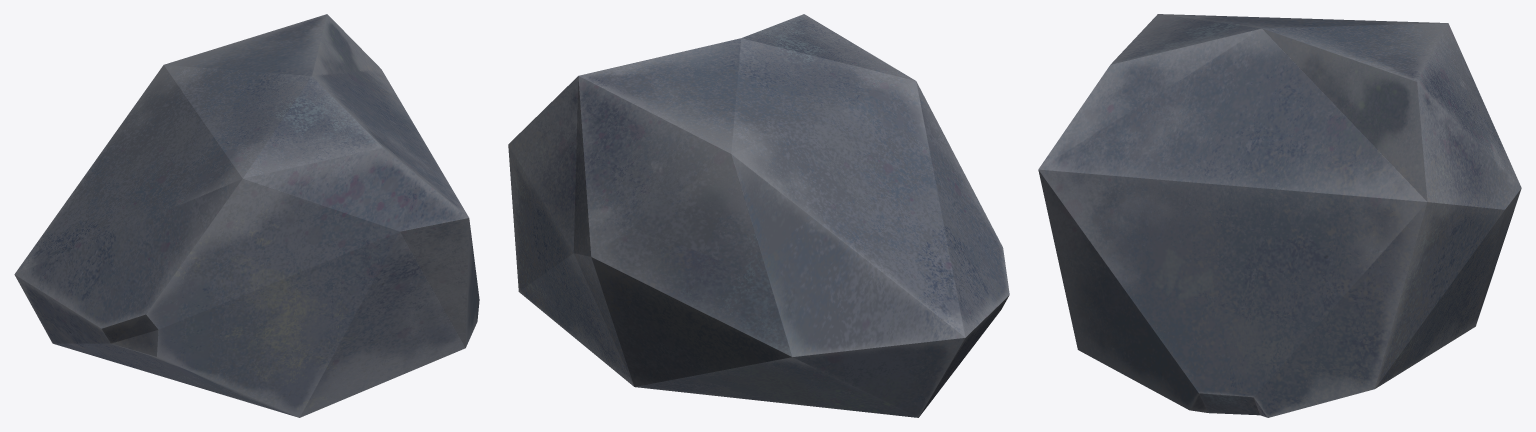
The model's file is stylized_rock_10.fbx.
The picture shows the model from 3 angles, left to right: view 1: azimuth 30°, elevation 25°; view 2: azimuth 150°, elevation 25°; view 3: azimuth 270°, elevation 25°; orthographic projection. The views are drawn at different scales.
Visible parts, largest first — view 1: stylized_rock_10; view 2: stylized_rock_10; view 3: stylized_rock_10.
Part boxes in pixels (bbox=[...]): stylized_rock_10: bbox=[14, 14, 479, 417]; stylized_rock_10: bbox=[508, 14, 1009, 417]; stylized_rock_10: bbox=[1038, 14, 1521, 417].
Bounding box in the file's own units: 64.57 × 41.47 × 56.63.
